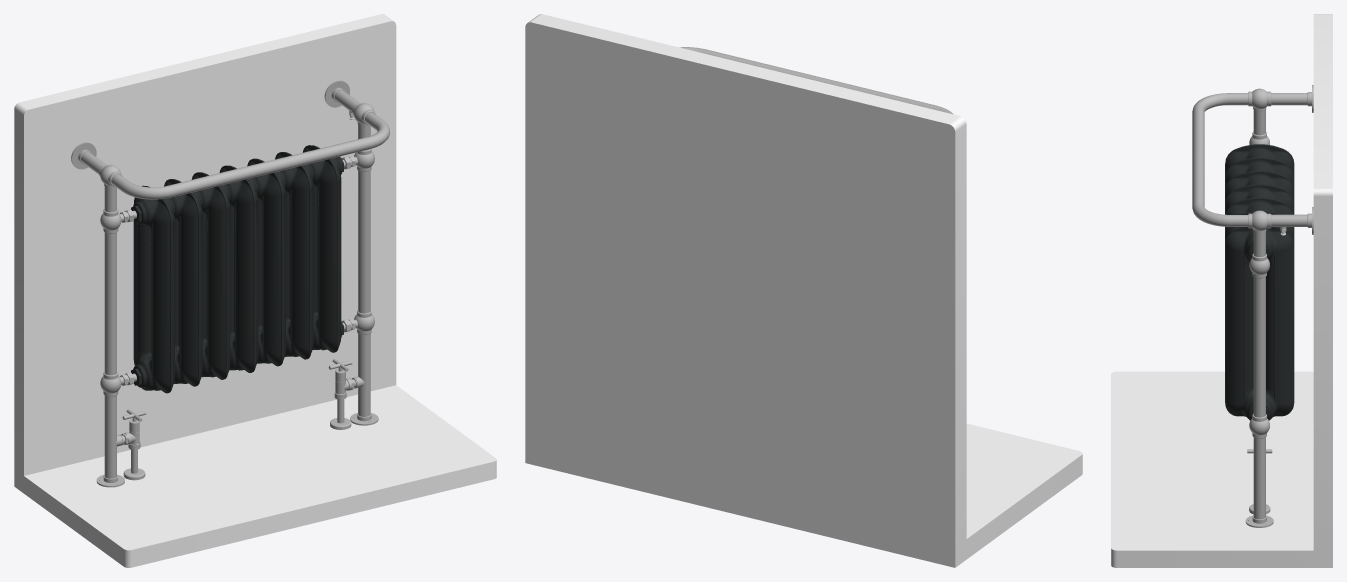
The model's file is obj_plain_towel_rail_cast_iron_r_4e8cef.glb.
3 views of the same model, side by side, from view 1: azimuth 30°, elevation 25°; view 2: azimuth 150°, elevation 25°; view 3: azimuth 270°, elevation 25° (orthographic). The views are drawn at different scales.
Parts seen in each view (by area): view 1: obj_plain_towel_rail_cast_iron_r_4e8cef; view 2: obj_plain_towel_rail_cast_iron_r_4e8cef; view 3: obj_plain_towel_rail_cast_iron_r_4e8cef.
Part boxes in pixels (x1=…): obj_plain_towel_rail_cast_iron_r_4e8cef: x1=14, y1=14, x2=496, y2=567; obj_plain_towel_rail_cast_iron_r_4e8cef: x1=525, y1=14, x2=1082, y2=567; obj_plain_towel_rail_cast_iron_r_4e8cef: x1=1111, y1=14, x2=1332, y2=567.
Size of the model in its own units: 0.8 by 0.7862 by 0.419.
Materials: 12 (12 with a texture image).
